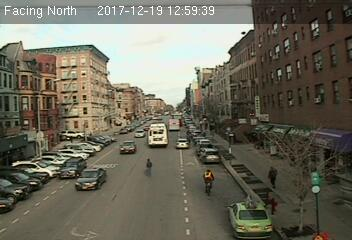bicycle: (202, 168, 215, 200)
bus: (147, 123, 168, 146)
car: (226, 196, 274, 237), (75, 166, 108, 189), (56, 157, 88, 176), (200, 146, 220, 162), (119, 140, 136, 152), (175, 137, 190, 149)
truck: (168, 119, 181, 130)
